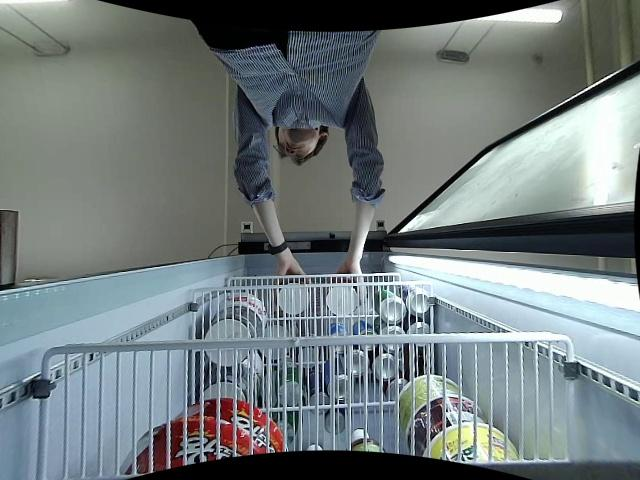00_hand: (333, 262, 368, 302), (273, 261, 308, 292)
